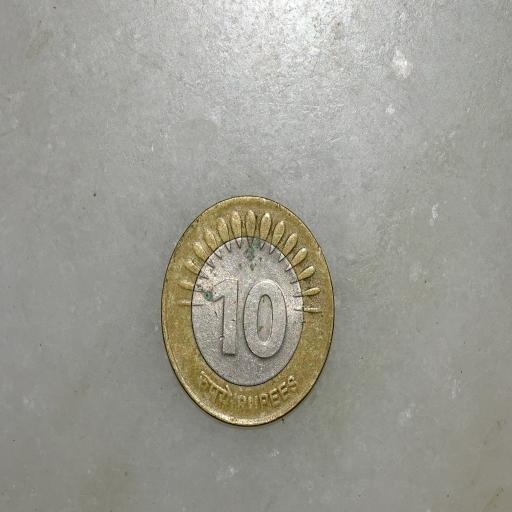rupee10: (154, 196, 338, 433)
